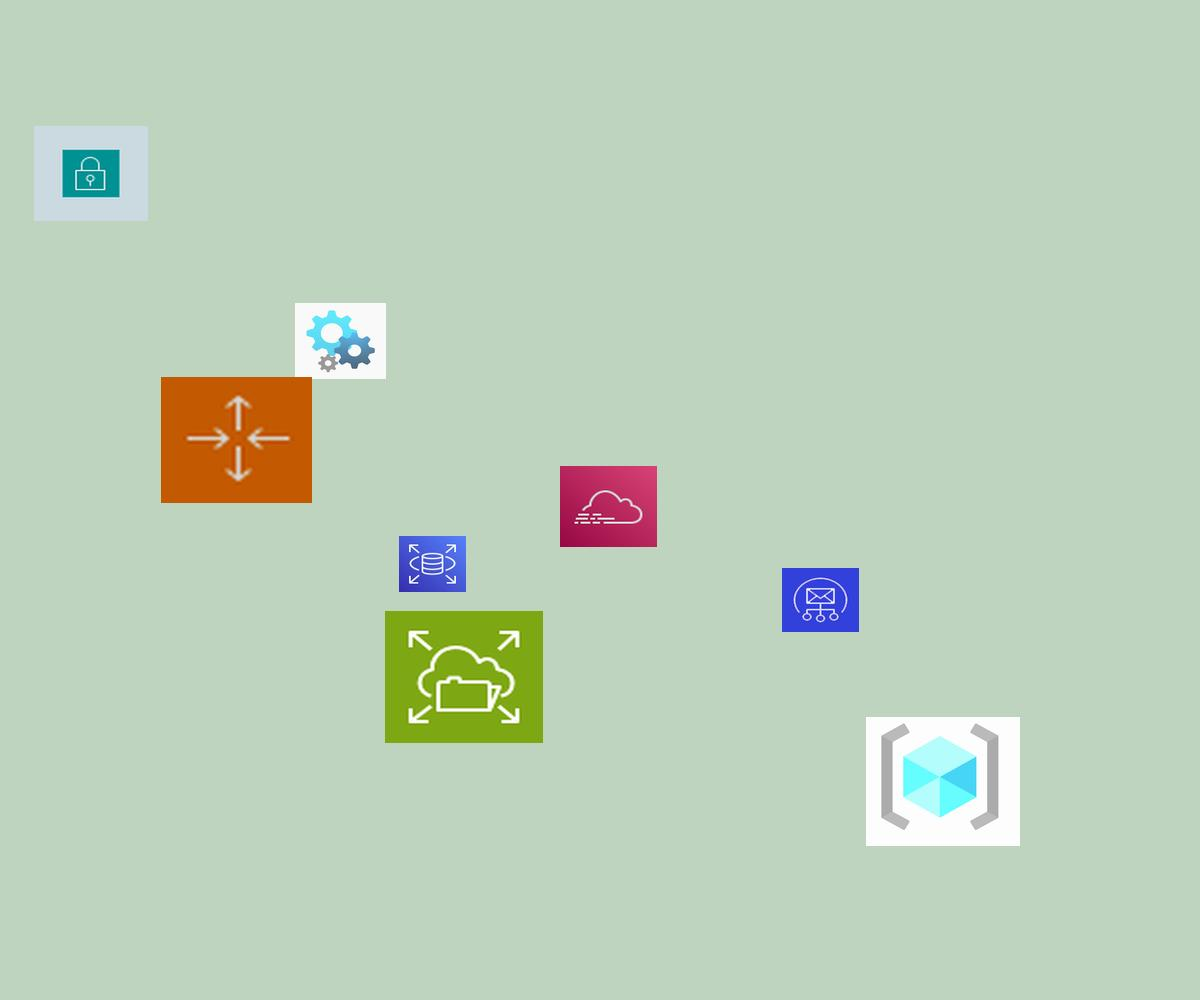AWS-CloudTrail: (560, 466, 657, 547)
AWS-EFS: (385, 611, 543, 743)
AWS-Private-subnet: (34, 126, 148, 221)
AWS-RDS: (399, 536, 466, 592)
AWS-Scaling-group: (161, 377, 312, 503)
AWS-Simple-Email-Service: (782, 568, 859, 632)
Azure_api: (295, 303, 386, 379)
Azure_resource_group: (866, 717, 1020, 846)
